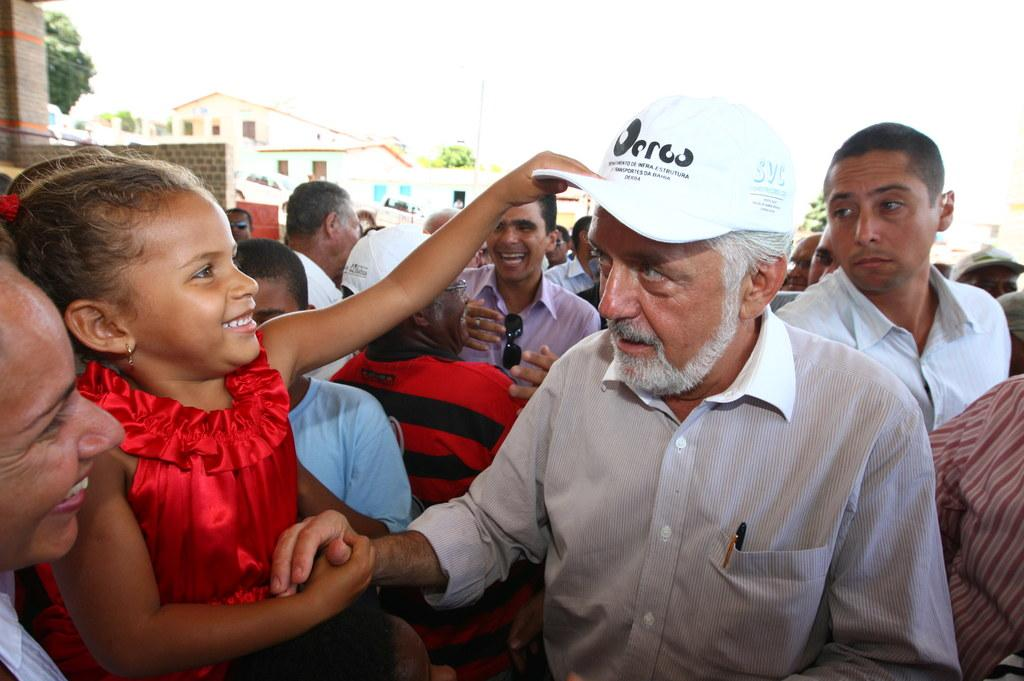Hat: (532, 91, 792, 243), (337, 224, 438, 292), (950, 246, 1023, 282), (999, 290, 1023, 342)
